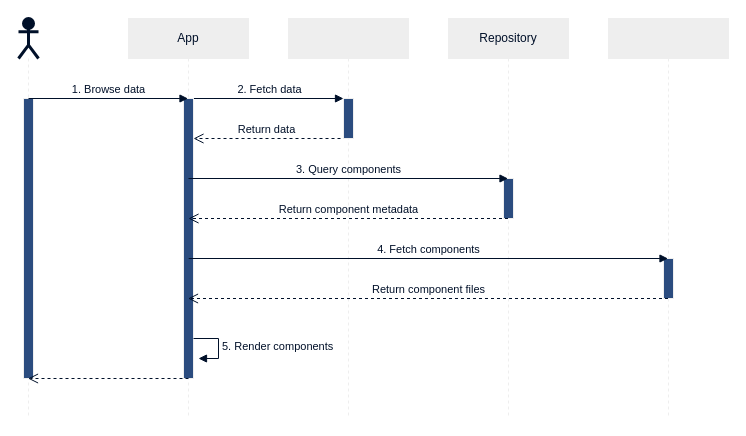
Image size: 746x436. Some labels were removed from this diagram. Each missing label, with the centre of its shape:
"Host" goes at (x=668, y=218).
"Pod" goes at (x=348, y=218).
